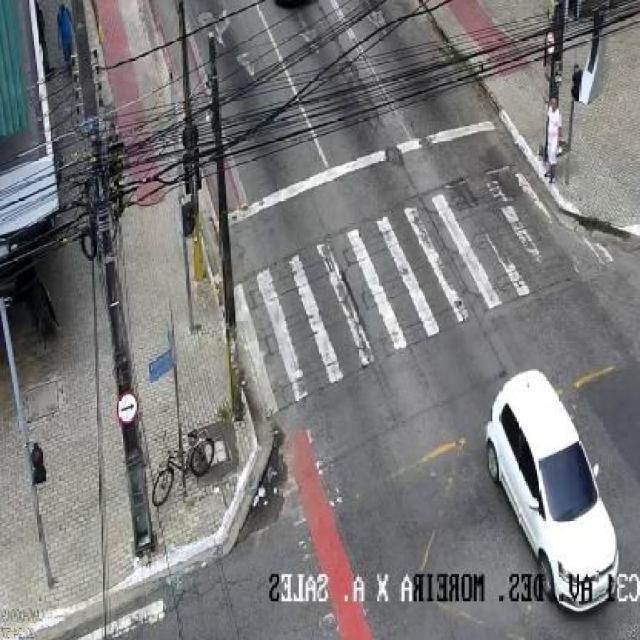Car: (488, 365, 622, 610)
